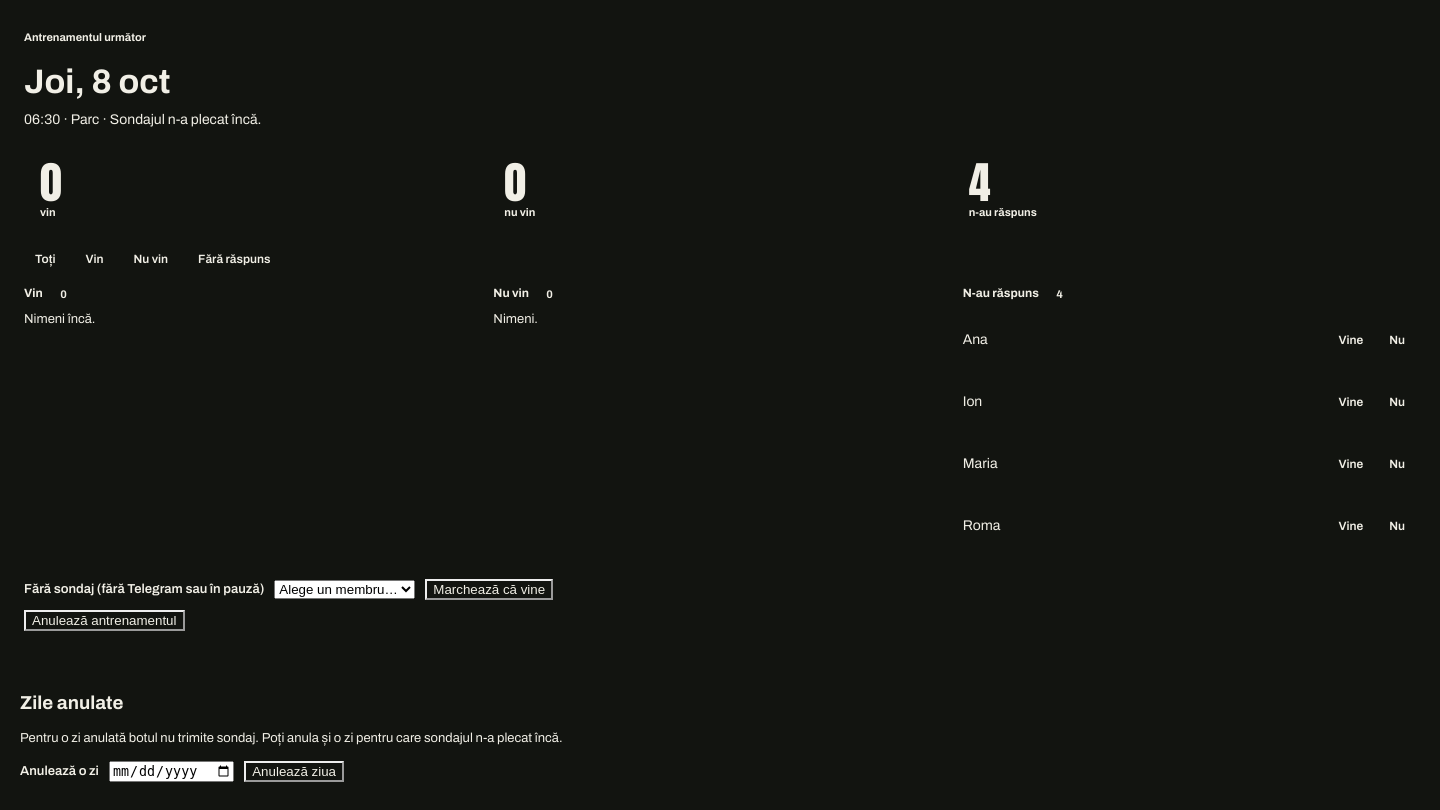
Test: Prezențe › fără sondaj plecat, confirmarea spune că în grup nu pleacă nimic și nu cere motiv
Expected: the heading "Joi, 8 oct" is shown, x1=24 y1=63 x2=170 y2=100
Click the button "Anulează antrenamentul": point(104, 620) x1=24 y1=610 x2=184 y2=631
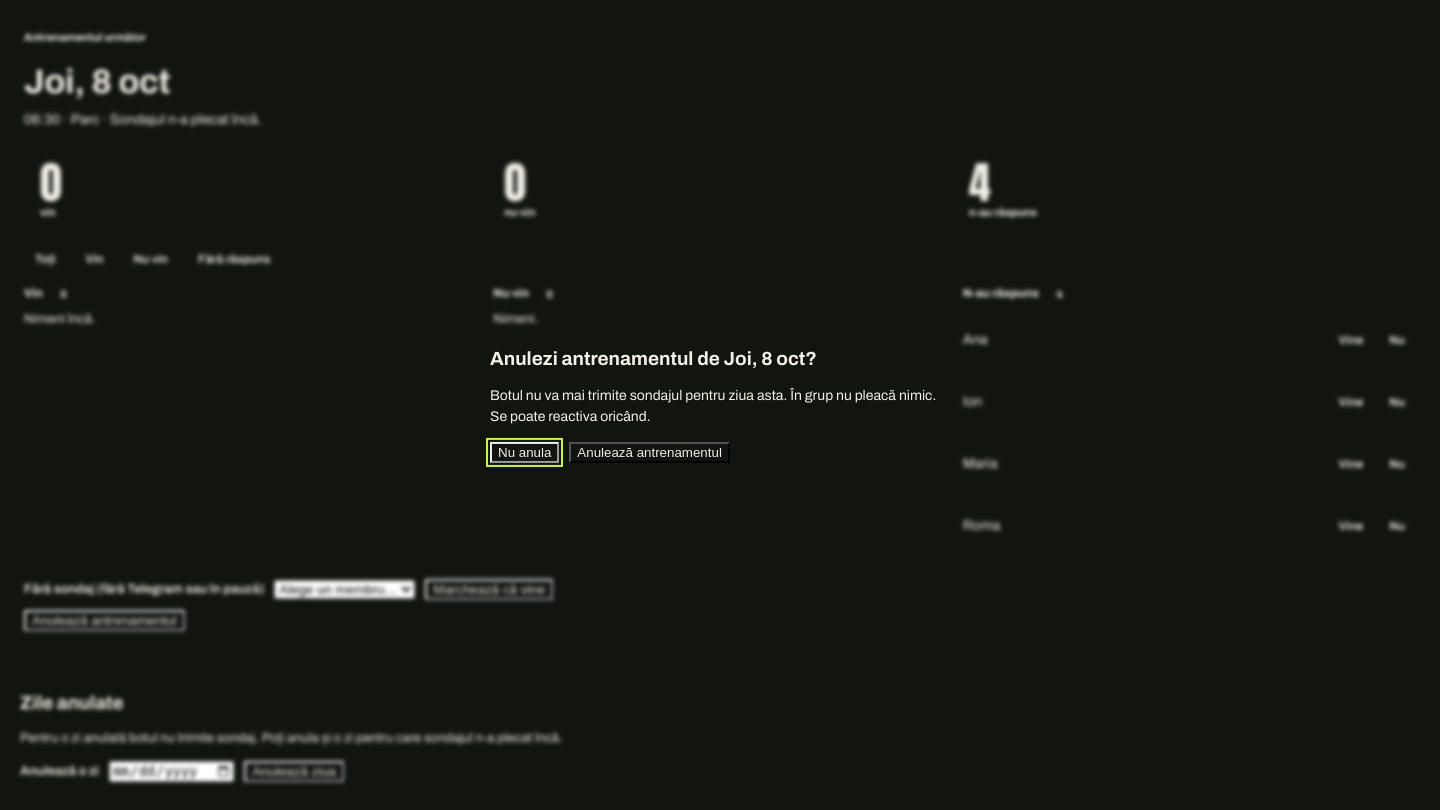
Expected: the dialog shows "În grup nu pleacă nimic", x1=490 y1=388 x2=936 y2=403
